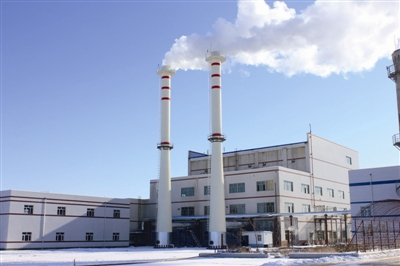dust: (201, 13, 323, 67), (152, 29, 211, 75)
